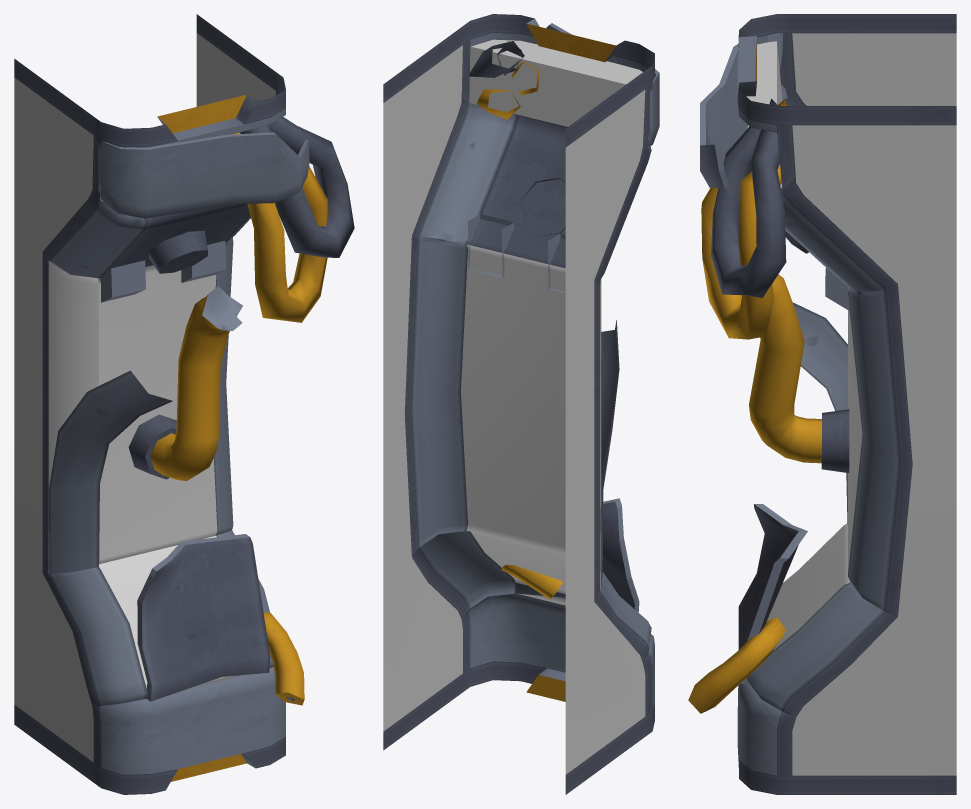
Rendered from obj_spaceship_wall12_damaged.fbx.
3 views of the same model, side by side, from view 1: azimuth 30°, elevation 25°; view 2: azimuth 150°, elevation 25°; view 3: azimuth 270°, elevation 25° (orthographic). The views are drawn at different scales.
Parts seen in each view (by area): view 1: pTorus3; view 2: pTorus3; view 3: pTorus3.
Boxes of the visible parts, x1,y1,x2,y2 form: pTorus3: (14, 14, 354, 794); pTorus3: (383, 14, 659, 794); pTorus3: (688, 14, 956, 794).
Bounding box in the file's own units: 5.37 × 14.02 × 4.93.
